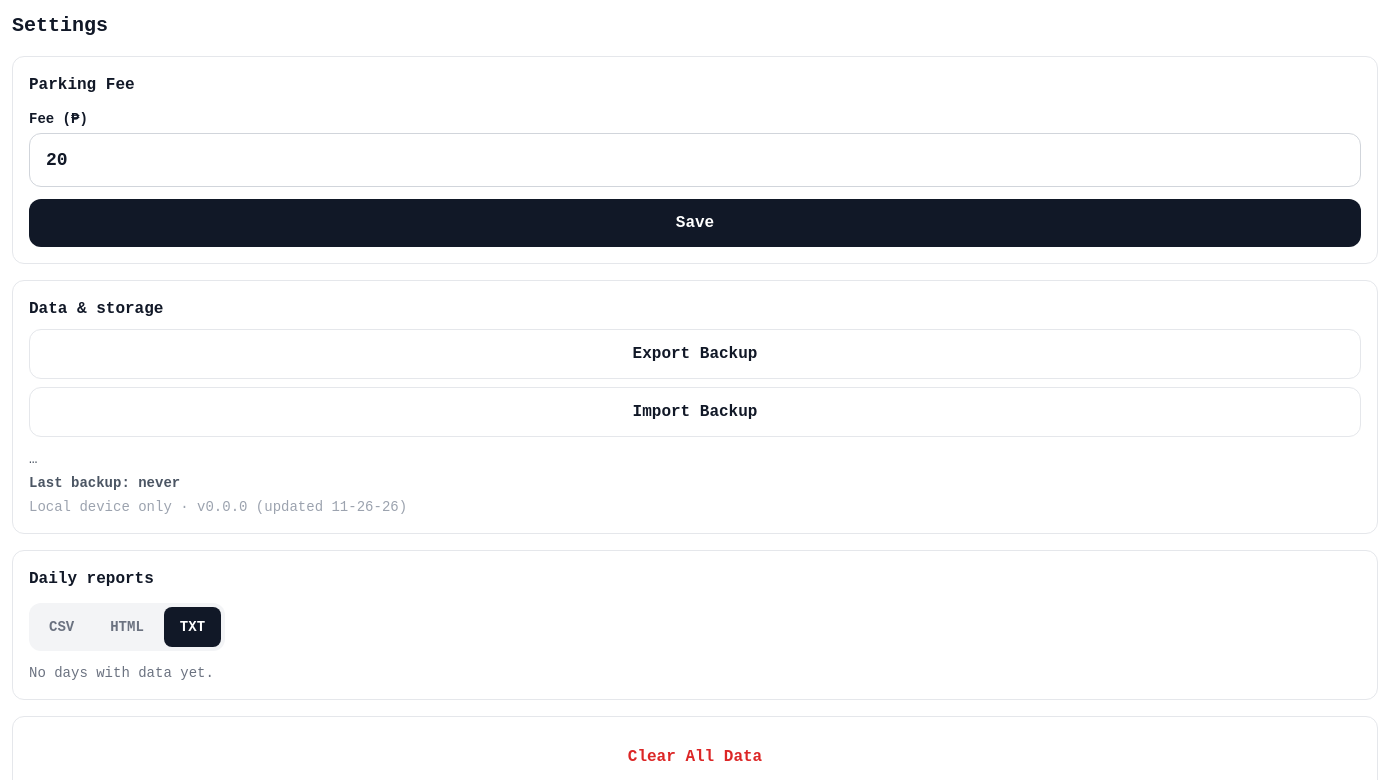
Test case: Settings view/edit › stamps last backup on export and shows today
Check: the field showing "20" is shown, box [29,133,1361,187]
Step 1. Click the button "Export Backup" → (695, 354), box [29,329,1361,379]
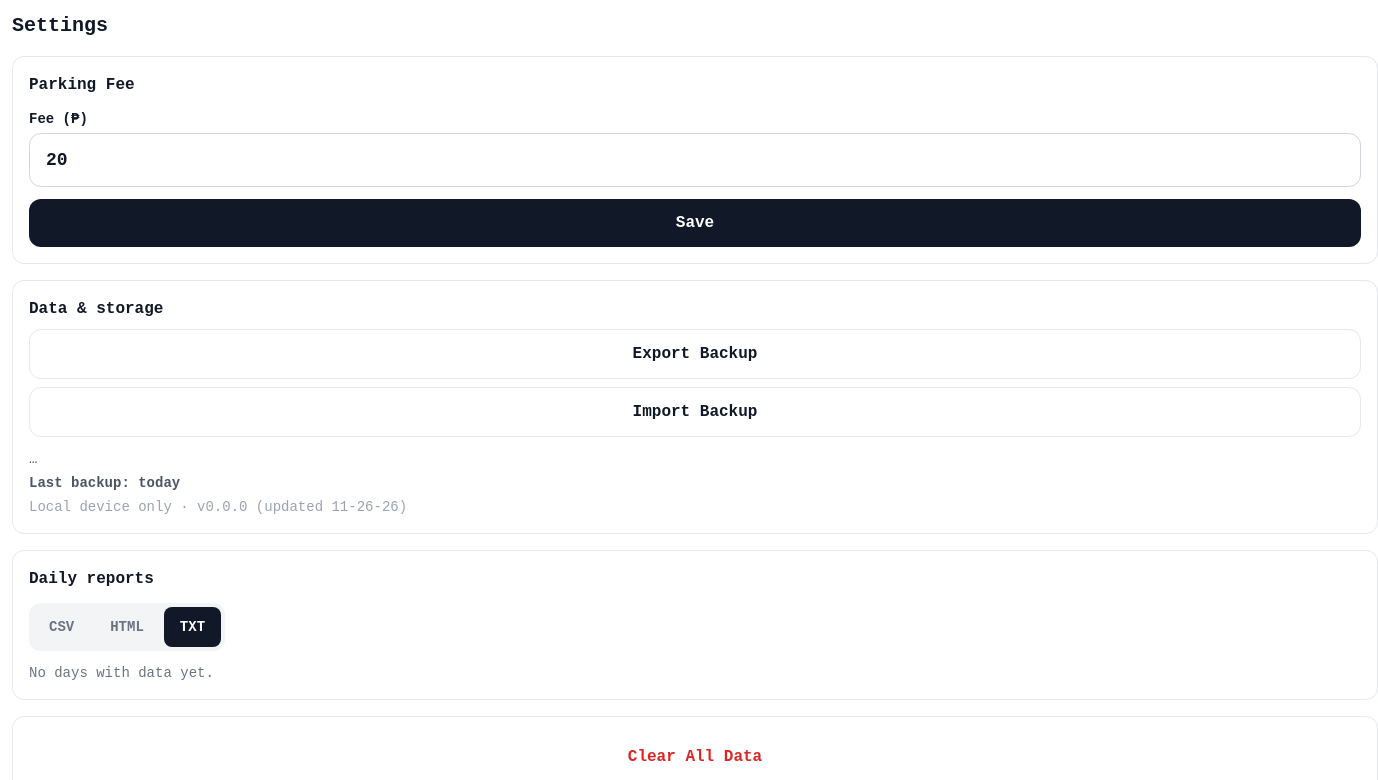
Check: the text "Last backup: today" is shown, box [29,475,180,491]
